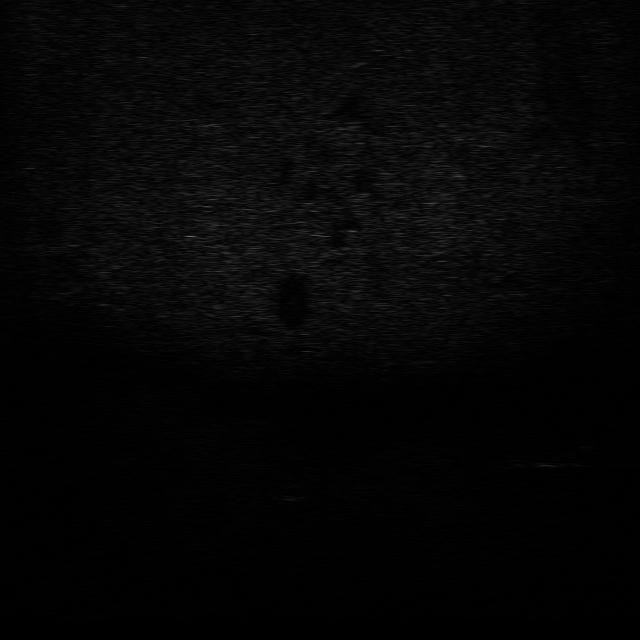ball: (274, 482, 312, 503)
human body: (512, 436, 598, 471)
